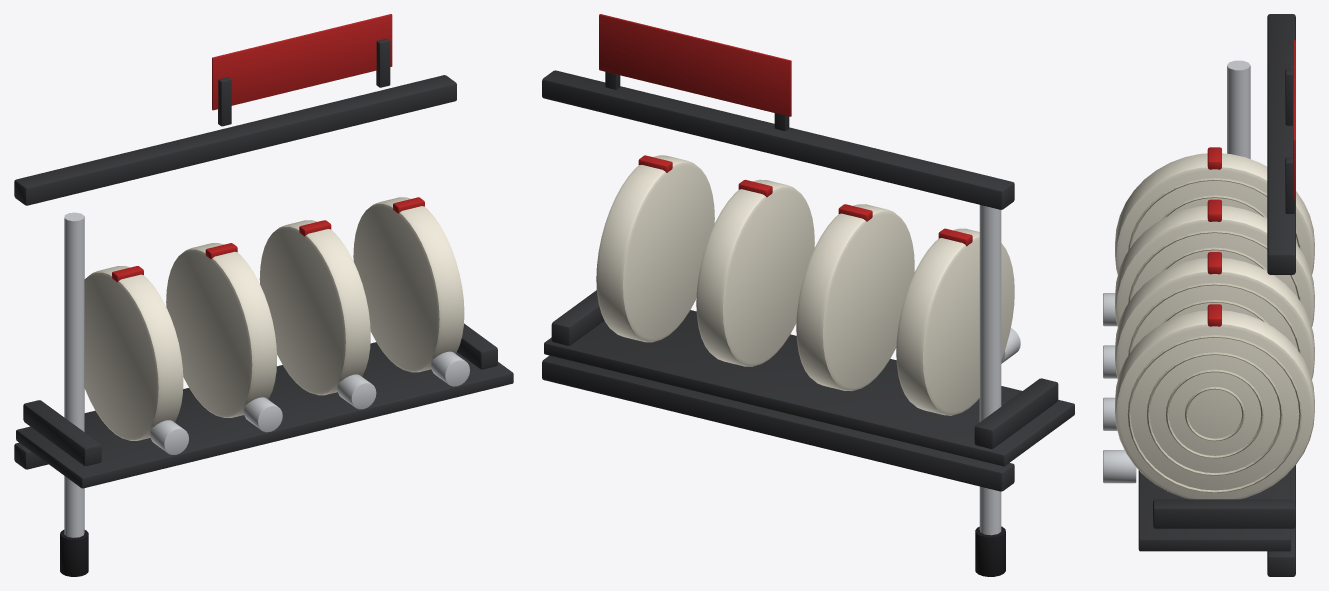
File: manichette 3.glb
3 views of the same model, side by side, from view 1: azimuth 30°, elevation 25°; view 2: azimuth 150°, elevation 25°; view 3: azimuth 270°, elevation 25° (orthographic). The views are drawn at different scales.
Parts seen in each view (by area): view 1: manichette; view 2: manichette; view 3: manichette.
Boxes of the visible parts, left/top/right/bottom form: manichette: left=14, top=14, right=513, bottom=576; manichette: left=542, top=14, right=1074, bottom=576; manichette: left=1103, top=14, right=1314, bottom=576.
Size of the model in its own units: 1.2 by 1.21 by 0.445.
